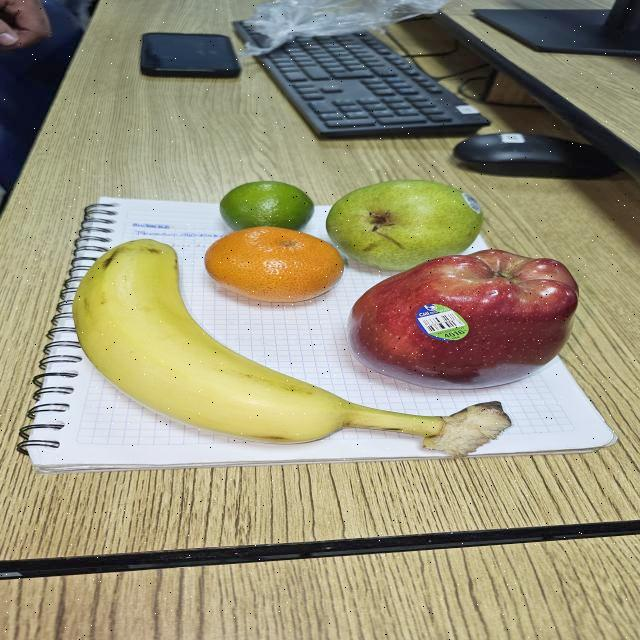Apel Merah: (343, 250, 592, 410)
Jeruk Mandarin: (196, 223, 355, 307)
Lemon: (198, 172, 318, 239)
Pir: (334, 167, 496, 271)
Pisang: (40, 223, 528, 464)
